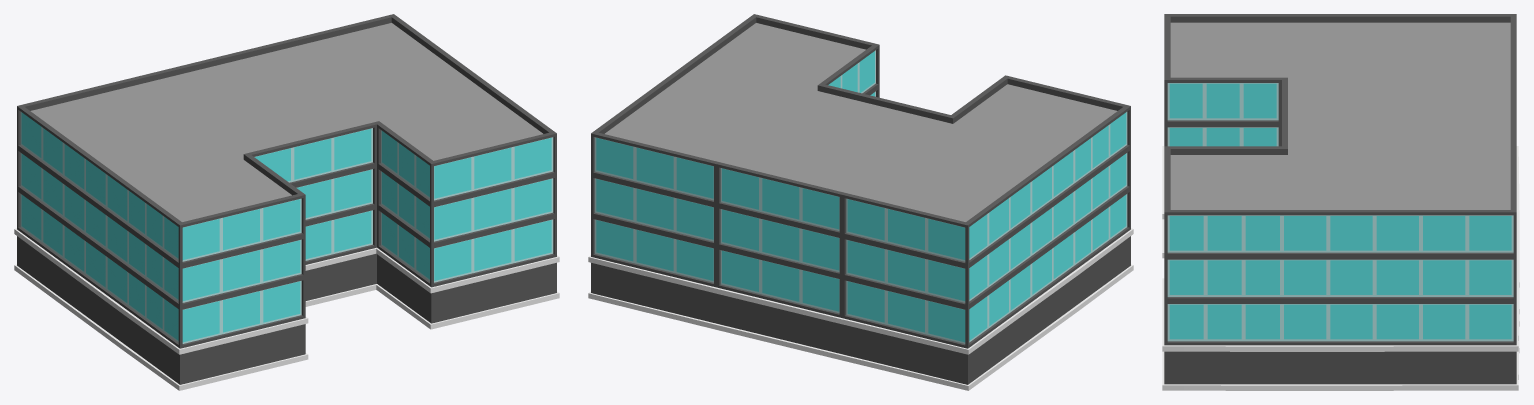
The model's file is SM_House_12_05.FBX.
3 views of the same model, side by side, from view 1: azimuth 30°, elevation 25°; view 2: azimuth 150°, elevation 25°; view 3: azimuth 270°, elevation 25° (orthographic). The views are drawn at different scales.
Parts seen in each view (by area): view 1: SM_House_12_05; view 2: SM_House_12_05; view 3: SM_House_12_05.
Boxes of the visible parts, bbox=[...] form: SM_House_12_05: bbox=[14, 14, 559, 390]; SM_House_12_05: bbox=[588, 14, 1133, 390]; SM_House_12_05: bbox=[1162, 14, 1519, 390].
Size of the model in its own units: 12.15 by 5 by 9.12.
Materials: 1 (1 with a texture image).
